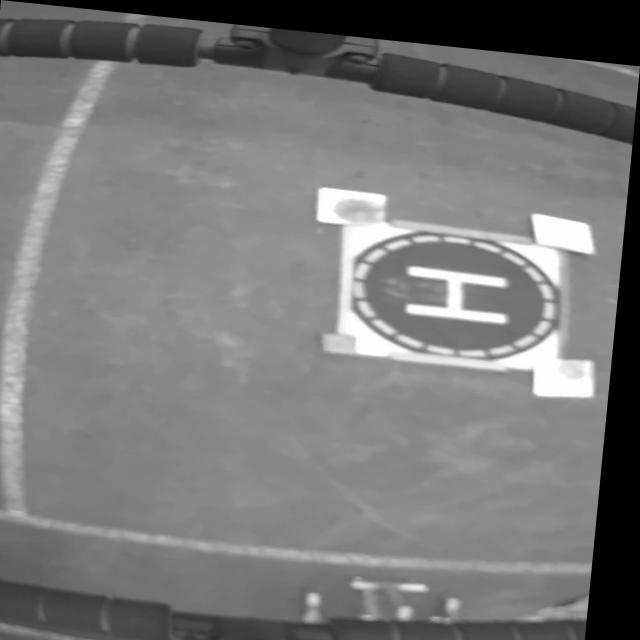Helipad: (410, 256, 513, 313)
